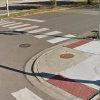Crosswalk: (2, 14, 62, 47)
